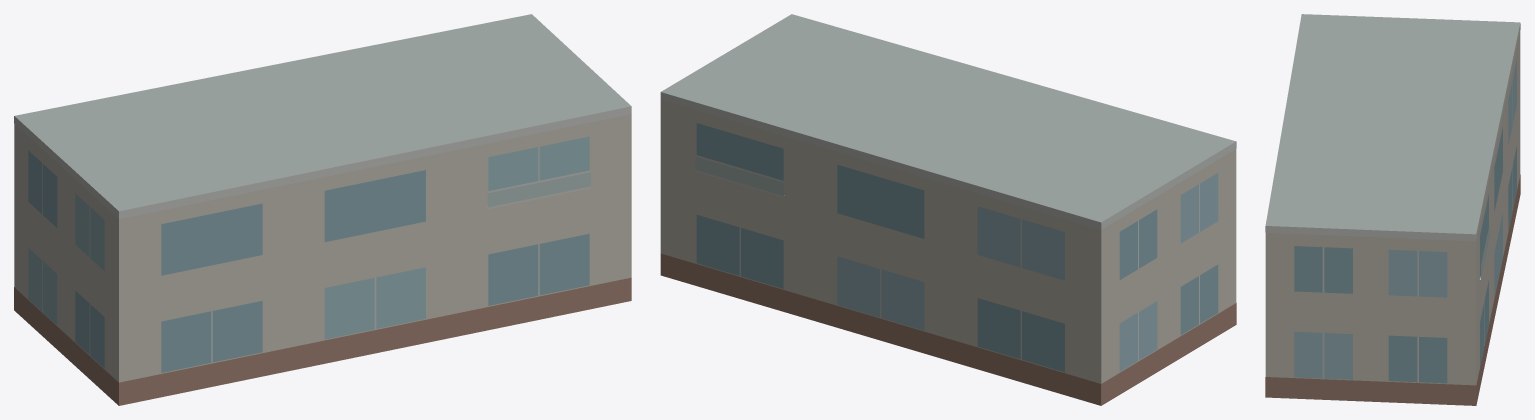
File: survey-upis-32646711.glb
The picture shows the model from 3 angles, left to right: view 1: azimuth 30°, elevation 25°; view 2: azimuth 150°, elevation 25°; view 3: azimuth 270°, elevation 25°; orthographic projection. The views are drawn at different scales.
Parts seen in each view (by area): view 1: survey-upis-32646711.tmp; view 2: survey-upis-32646711.tmp; view 3: survey-upis-32646711.tmp.
Part boxes in pixels (x1=…): survey-upis-32646711.tmp: x1=14, y1=14, x2=631, y2=405; survey-upis-32646711.tmp: x1=660, y1=14, x2=1236, y2=405; survey-upis-32646711.tmp: x1=1265, y1=14, x2=1520, y2=405.
Bounding box in the file's own units: 16.8 × 6.1 × 8.23.
